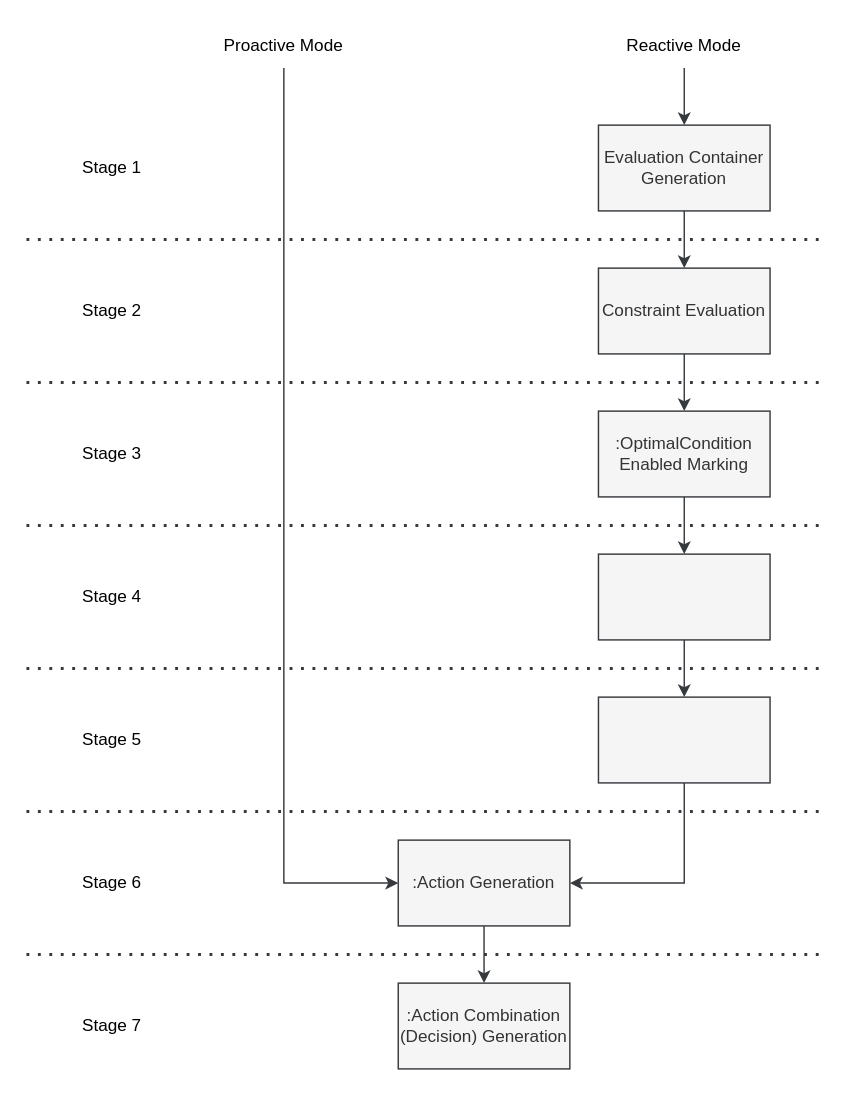
Some shapes in this 854 by 1094 pixel diagram are drawn without their labels. The centre of each missing label's shape, as x and y in pixels:
":PropertyChange Gathering" goes at point (683, 739).
"Unsatisfied Constraint Operator and ssn:Property Marking" goes at point (683, 596).
